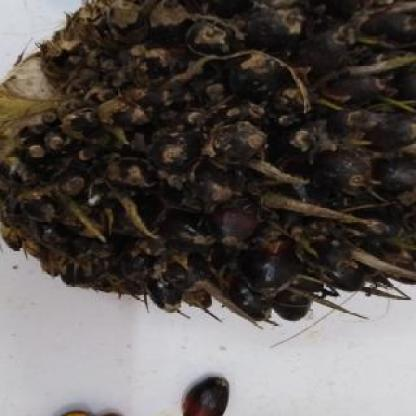Unripe: (0, 0, 416, 337)
